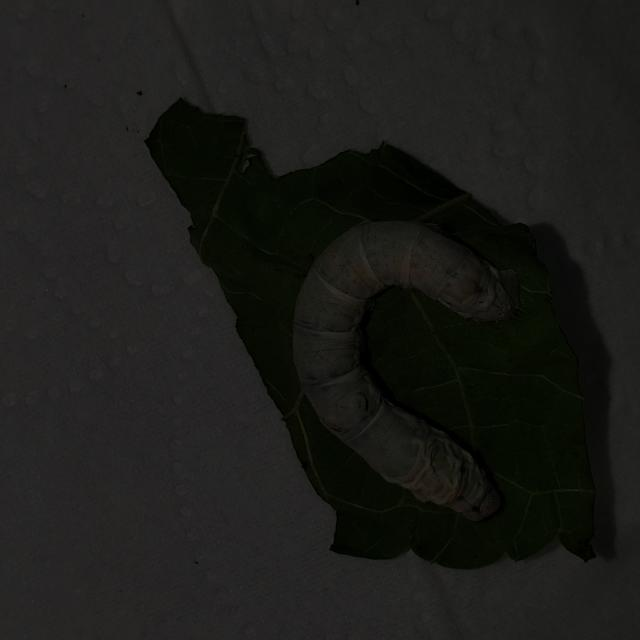Healthy: (286, 207, 516, 529)
